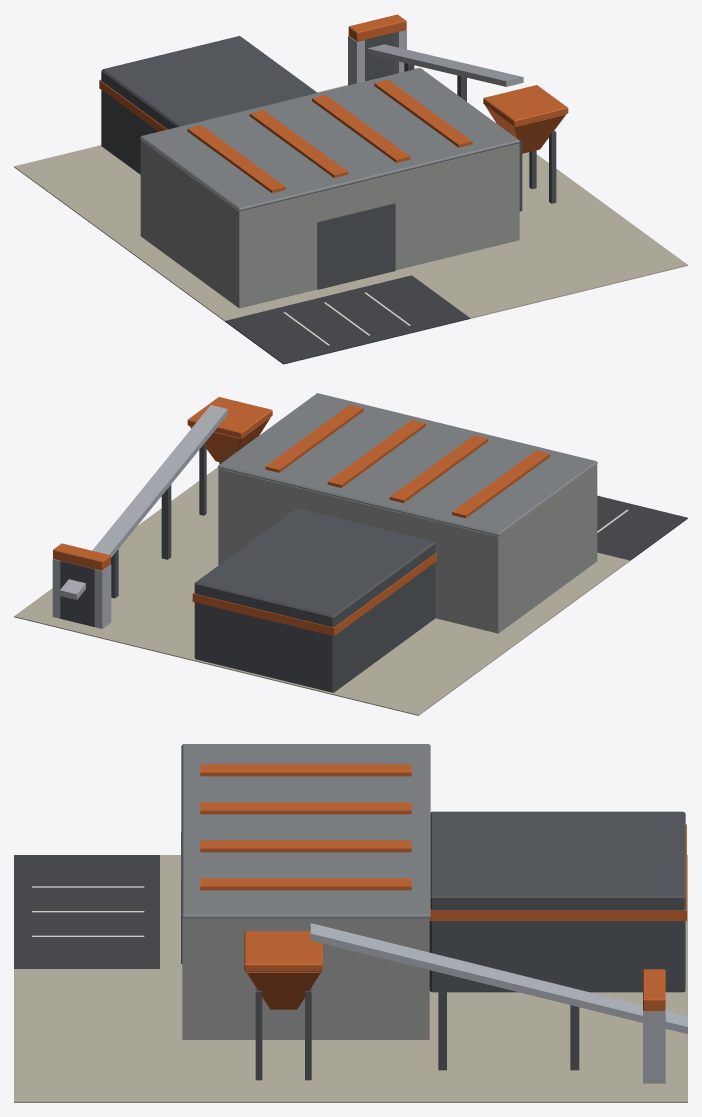
The model's file is mine.glb.
The picture shows the model from 3 angles, top to bottom: view 1: azimuth 30°, elevation 25°; view 2: azimuth 150°, elevation 25°; view 3: azimuth 270°, elevation 25°; orthographic projection. The views are drawn at different scales.
Parts seen in each view (by area): view 1: mine; view 2: mine; view 3: mine.
Part boxes in pixels (bbox=[...]): mine: bbox=[14, 14, 687, 364]; mine: bbox=[14, 393, 687, 715]; mine: bbox=[14, 744, 687, 1102].
Bounding box in the file's own units: 26 × 6.95 × 30.
